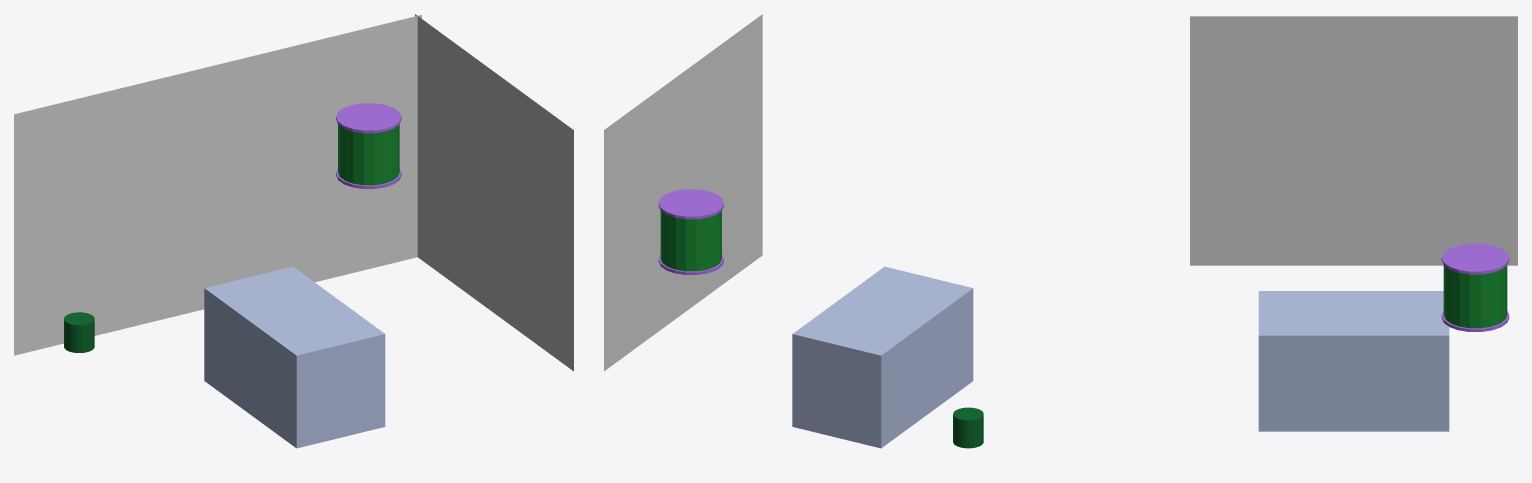
Rendered from room_1.glb.
The picture shows the model from 3 angles, left to right: view 1: azimuth 30°, elevation 25°; view 2: azimuth 150°, elevation 25°; view 3: azimuth 270°, elevation 25°; orthographic projection. The views are drawn at different scales.
Parts seen in each view (by area): view 1: back wall, right, Cube.001, container, top, mushroom pot; view 2: right, Cube.001, container, top, mushroom pot; view 3: left, Cube.001, container, top, bottom.
Part boxes in pixels (x1=…): back wall: x1=14, y1=15, x2=421, y2=355; right: x1=415, y1=14, x2=573, y2=371; Cube.001: x1=204, y1=266, x2=385, y2=448; container: x1=338, y1=124, x2=399, y2=185; top: x1=336, y1=103, x2=401, y2=133; mushroom pot: x1=64, y1=312, x2=94, y2=352; right: x1=604, y1=14, x2=762, y2=371; Cube.001: x1=792, y1=266, x2=973, y2=448; container: x1=660, y1=211, x2=721, y2=271; top: x1=658, y1=189, x2=723, y2=219; mushroom pot: x1=953, y1=407, x2=983, y2=448; left: x1=1190, y1=16, x2=1517, y2=265; Cube.001: x1=1258, y1=291, x2=1449, y2=431; container: x1=1443, y1=265, x2=1507, y2=328; top: x1=1441, y1=243, x2=1509, y2=274; bottom: x1=1441, y1=311, x2=1509, y2=331.
Size of what is drawn, in the model's own units: 4.6 by 3.05 by 3.1.
